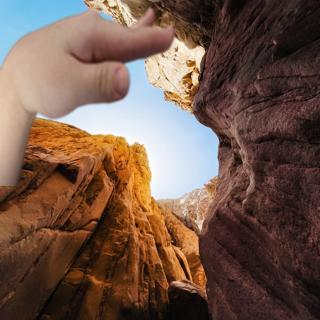Wait: (0, 8, 181, 120)
